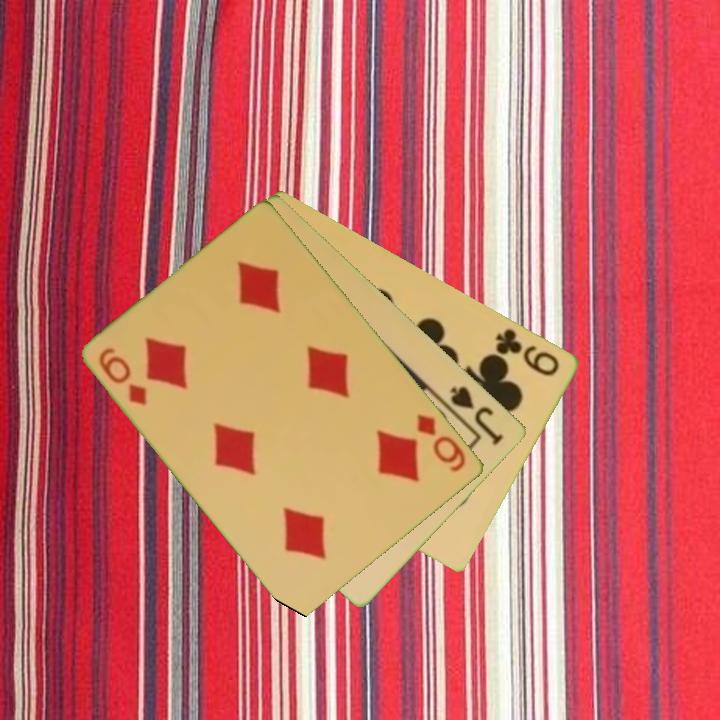6d: (413, 410, 470, 475), (95, 344, 151, 409)
9c: (492, 324, 563, 379)
Js: (447, 382, 507, 448)
